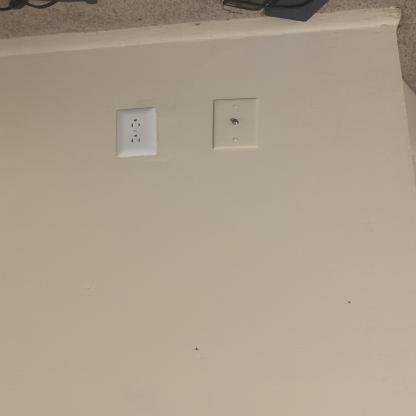OUTLET: (115, 110, 156, 158)
